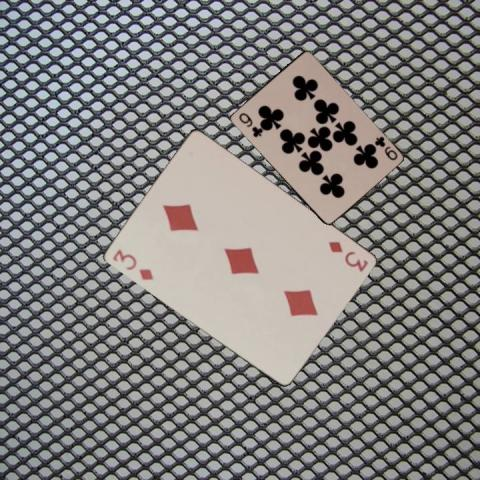3d: (109, 246, 155, 282), (325, 238, 369, 274)
9c: (235, 109, 263, 139), (371, 133, 399, 162)
